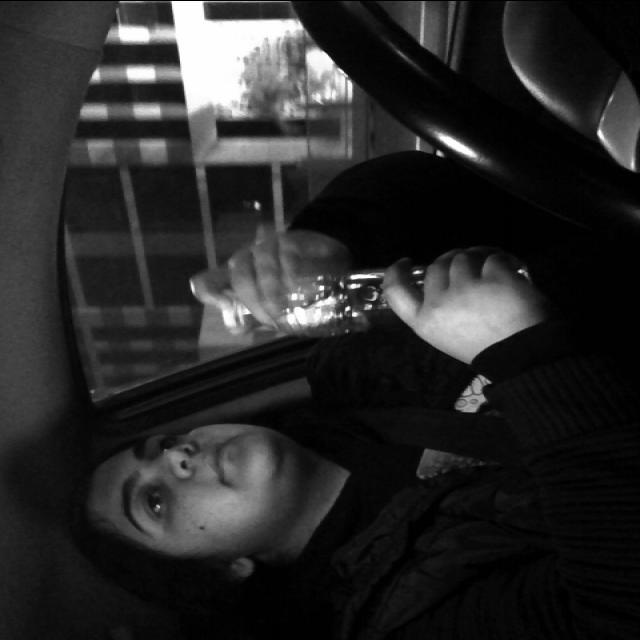drinking: (210, 240, 524, 338)
